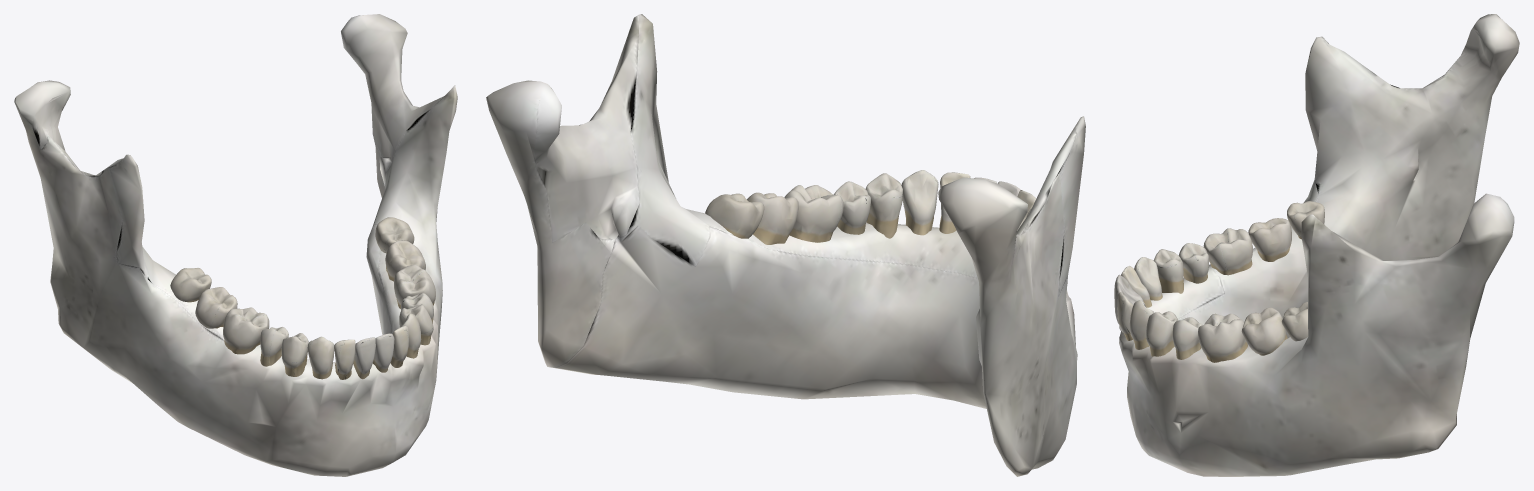
The model's file is mandible.glb.
The picture shows the model from 3 angles, left to right: view 1: azimuth 30°, elevation 25°; view 2: azimuth 150°, elevation 25°; view 3: azimuth 270°, elevation 25°; orthographic projection. The views are drawn at different scales.
Visible parts, largest first — view 1: Object_2, Object_16, Object_19, Object_17, Object_4, Object_18, Object_6, Object_3, Object_13, Object_15, Object_10, Object_8 (+4 smaller); view 2: Object_2, Object_17, Object_12, Object_3, Object_18, Object_5, Object_14; view 3: Object_2, Object_17, Object_16, Object_18, Object_19, Object_5, Object_6, Object_15, Object_14, Object_12, Object_4, Object_13 (+3 smaller).
Part boxes in pixels (left/top/right/bottom): Object_2: left=14, top=14, right=457, bottom=476; Object_16: left=223, top=307, right=269, bottom=354; Object_19: left=195, top=287, right=237, bottom=328; Object_17: left=394, top=264, right=435, bottom=308; Object_4: left=170, top=268, right=211, bottom=302; Object_18: left=385, top=240, right=425, bottom=281; Object_6: left=281, top=333, right=308, bottom=376; Object_3: left=375, top=217, right=414, bottom=253; Object_13: left=307, top=336, right=334, bottom=379; Object_15: left=260, top=327, right=288, bottom=366; Object_10: left=334, top=339, right=355, bottom=379; Object_8: left=353, top=337, right=375, bottom=379; Object_2: left=486, top=14, right=1085, bottom=476; Object_17: left=784, top=185, right=843, bottom=242; Object_12: left=901, top=170, right=938, bottom=235; Object_3: left=705, top=193, right=764, bottom=238; Object_18: left=747, top=192, right=798, bottom=244; Object_5: left=865, top=173, right=902, bottom=238; Object_14: left=833, top=181, right=870, bottom=234; Object_2: left=1119, top=14, right=1519, bottom=476; Object_17: left=1198, top=313, right=1247, bottom=362; Object_16: left=1203, top=228, right=1252, bottom=275; Object_18: left=1241, top=307, right=1287, bottom=355; Object_19: left=1248, top=218, right=1291, bottom=261; Object_5: left=1146, top=311, right=1178, bottom=356; Object_6: left=1153, top=249, right=1183, bottom=293; Object_15: left=1178, top=243, right=1208, bottom=283; Object_14: left=1172, top=317, right=1202, bottom=359; Object_12: left=1129, top=300, right=1153, bottom=349; Object_4: left=1287, top=201, right=1324, bottom=239; Object_13: left=1134, top=257, right=1162, bottom=300.
Bounding box in the file's own units: 10.69 × 8.28 × 8.99.
9 materials, 9 textured.
